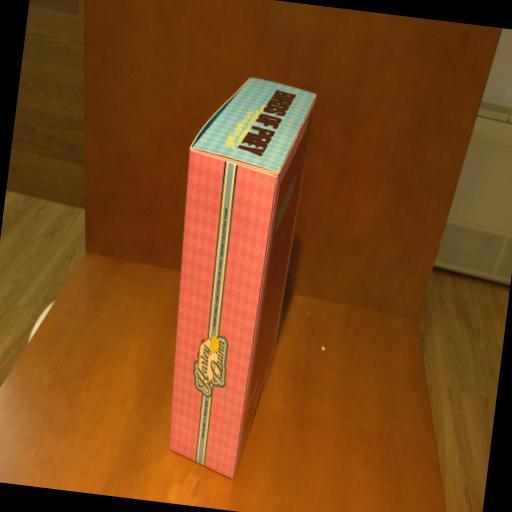Harley: (150, 72, 318, 484)
